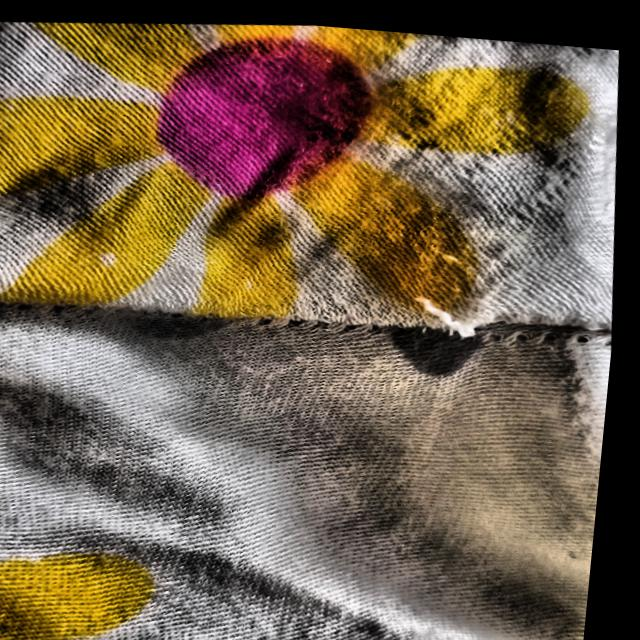Stitch: (404, 260, 504, 355)
